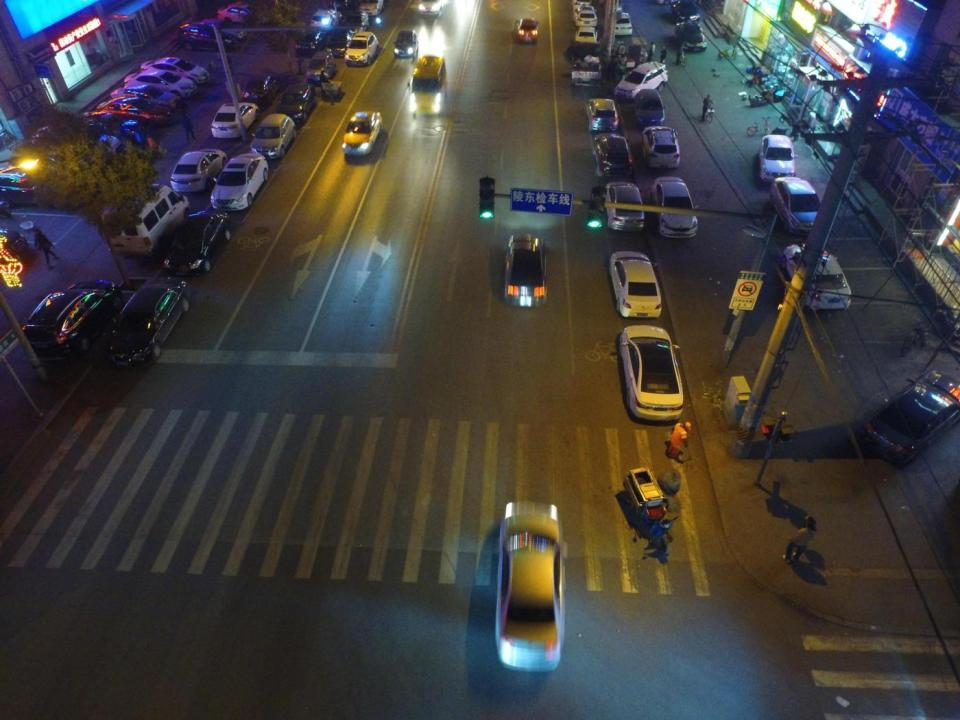car: (494, 502, 565, 671), (863, 370, 960, 466), (25, 277, 123, 360), (114, 278, 188, 370), (616, 325, 686, 422), (165, 209, 233, 276), (782, 244, 852, 308), (609, 250, 662, 320), (501, 232, 547, 309), (768, 178, 826, 237), (213, 152, 270, 212), (35, 125, 124, 161), (650, 177, 698, 240), (171, 150, 225, 194), (65, 114, 139, 146), (20, 137, 90, 170), (95, 98, 172, 128), (252, 113, 299, 161), (604, 182, 647, 232), (617, 61, 669, 102), (0, 167, 53, 207), (590, 133, 632, 182), (212, 100, 260, 140), (342, 112, 384, 157), (757, 134, 795, 182), (125, 72, 195, 98), (178, 22, 239, 51), (115, 85, 180, 112), (140, 60, 206, 85), (278, 82, 315, 126), (643, 126, 680, 170), (214, 1, 268, 27), (242, 72, 282, 106), (195, 18, 248, 43), (586, 97, 621, 132), (636, 88, 665, 128), (346, 31, 379, 66), (676, 20, 706, 52), (308, 52, 338, 82), (298, 28, 325, 56), (514, 17, 541, 45), (395, 30, 420, 60), (311, 8, 342, 32), (668, 1, 700, 24), (330, 28, 353, 58), (344, 10, 370, 35), (572, 5, 599, 27), (610, 14, 634, 38), (574, 26, 597, 49), (356, 0, 386, 17), (419, 0, 447, 16), (571, 0, 592, 10)
truck: (572, 42, 604, 88)
van: (98, 183, 188, 256), (408, 54, 448, 117)
